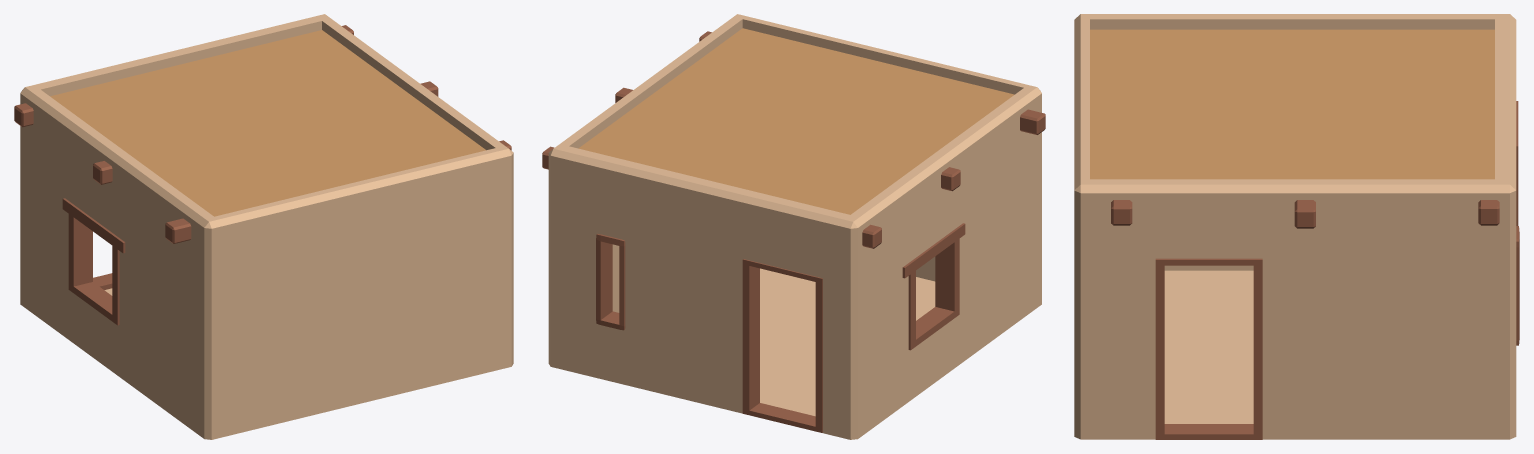
Rendered from Small Building Frame A.glb.
3 renders of one model, left to right at view 1: azimuth 30°, elevation 25°; view 2: azimuth 150°, elevation 25°; view 3: azimuth 270°, elevation 25°, orthographic. The views are drawn at different scales.
Parts seen in each view (by area): view 1: Small Building Frame A; view 2: Small Building Frame A; view 3: Small Building Frame A.
Boxes of the visible parts, left/top/right/bottom form: Small Building Frame A: left=14, top=14, right=513, bottom=439; Small Building Frame A: left=542, top=14, right=1045, bottom=439; Small Building Frame A: left=1074, top=14, right=1519, bottom=439.
Size of the model in its own units: 548 by 328 by 526.
